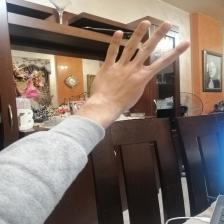four: (94, 21, 196, 114)
